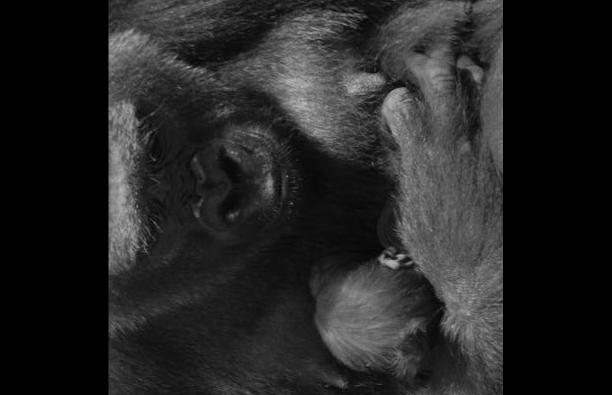gorille_Autres: (109, 0, 499, 395)
